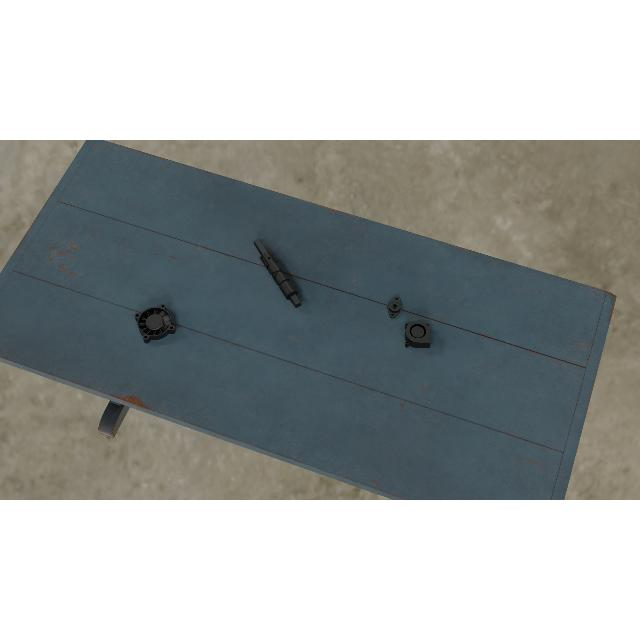Pieza1: (252, 236, 304, 312)
Pieza2: (384, 294, 404, 320)
Pieza3: (404, 320, 430, 350)
Pieza4: (133, 303, 177, 345)
